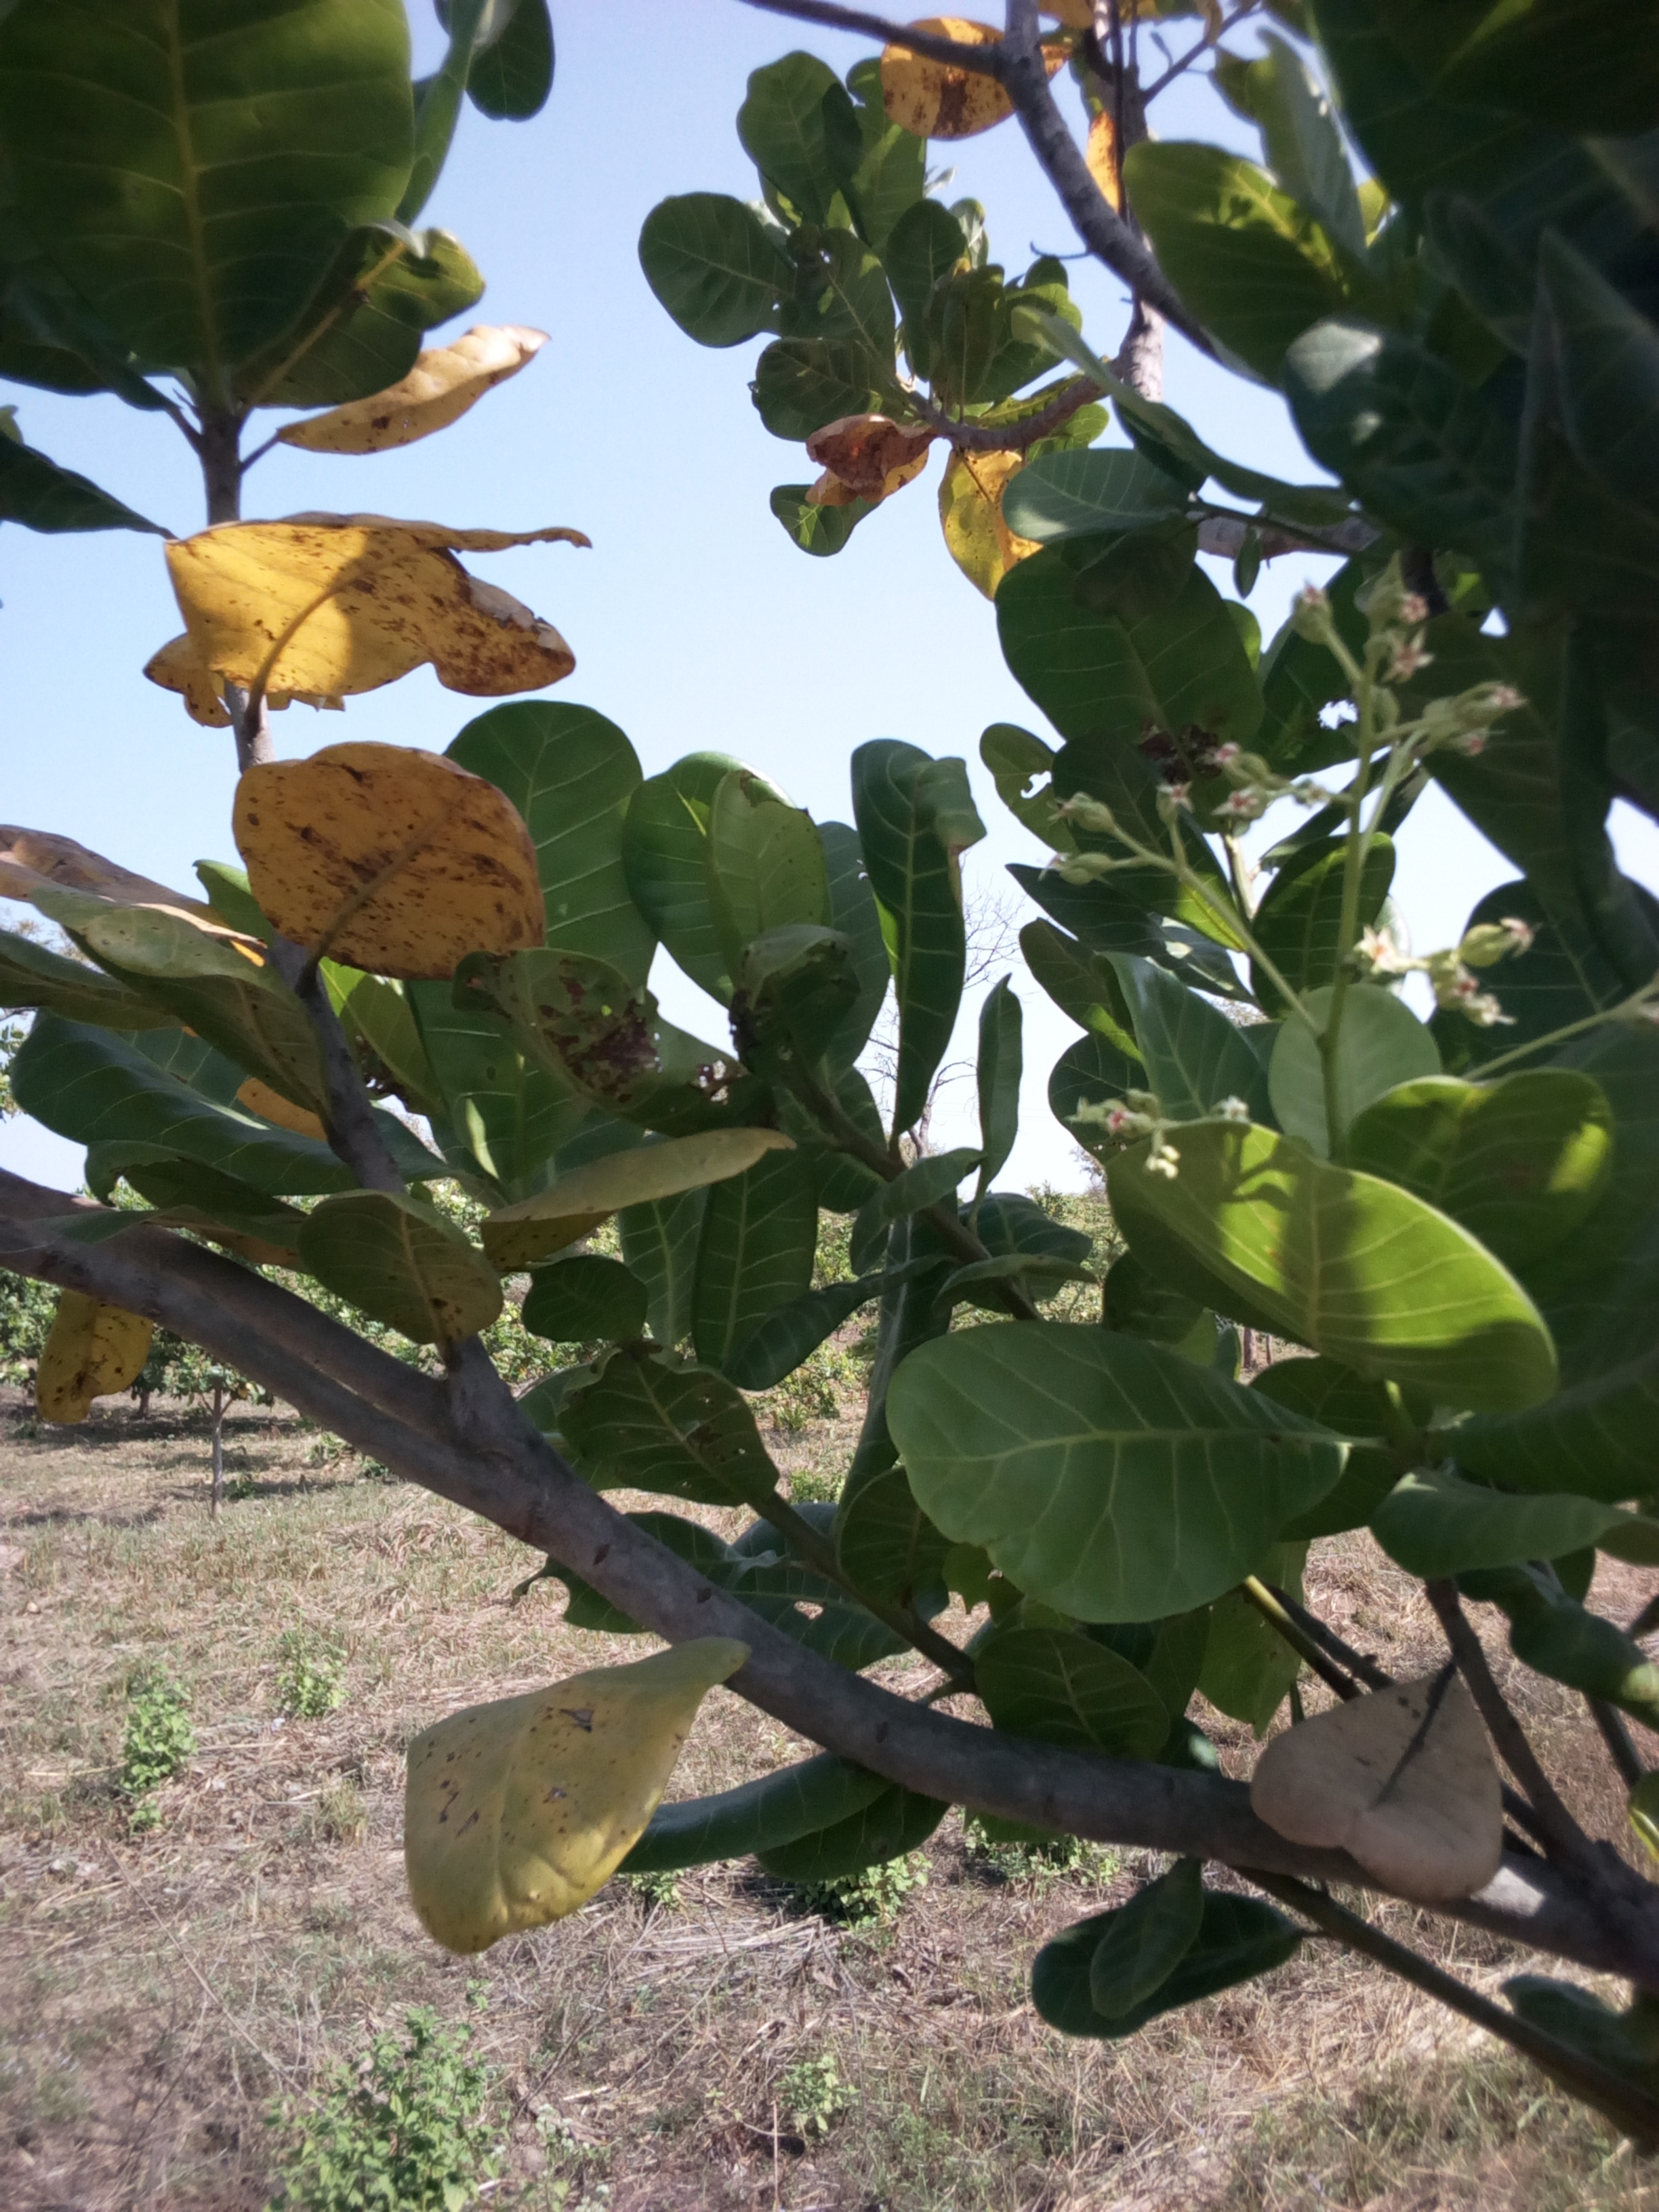Anthracnose: (396, 1632, 739, 1959), (166, 500, 596, 679), (227, 737, 538, 970), (305, 1188, 504, 1367)
